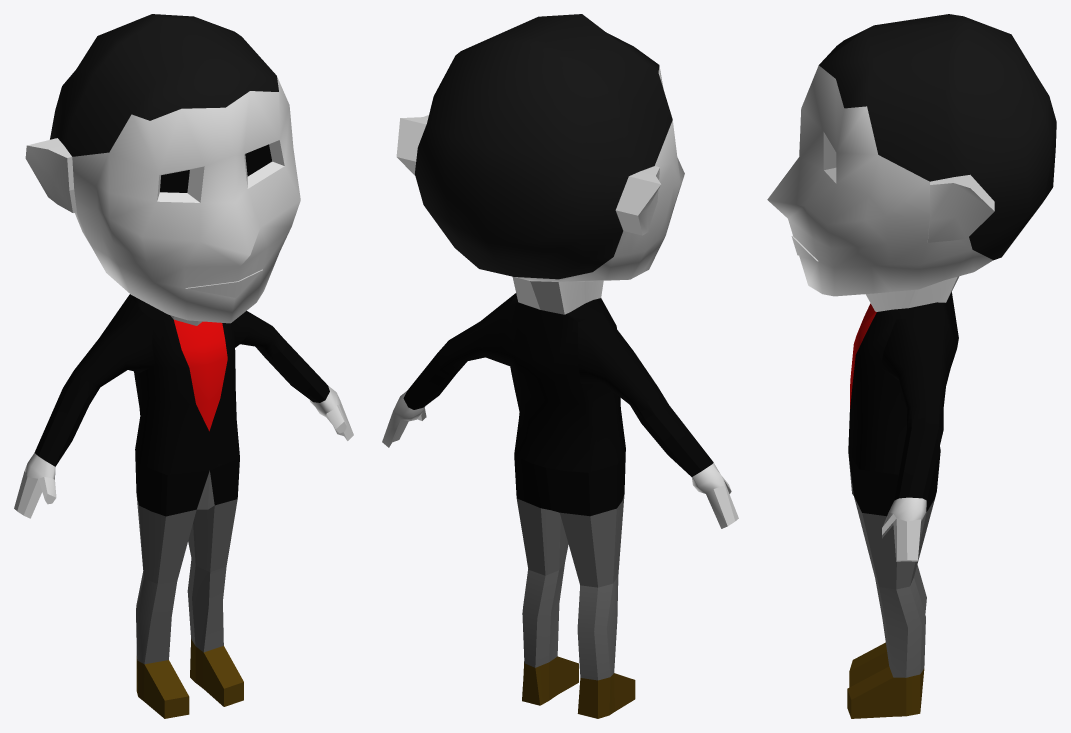
The model's file is Vampire 1.fbx.
3 renders of one model, left to right at view 1: azimuth 30°, elevation 25°; view 2: azimuth 150°, elevation 25°; view 3: azimuth 270°, elevation 25°, orthographic. The views are drawn at different scales.
Parts seen in each view (by area): view 1: vampire; view 2: vampire; view 3: vampire.
Part boxes in pixels (x1,y1,x2,y2): vampire: (14, 14, 353, 718); vampire: (382, 14, 738, 718); vampire: (767, 14, 1056, 718).
Bounding box in the file's own units: 141 × 264 × 102.
